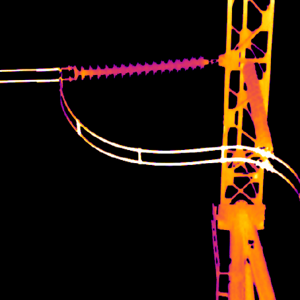insulator: (73, 53, 209, 80), (240, 60, 271, 149)
